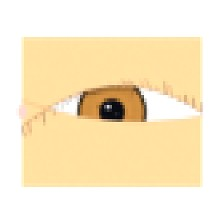pterygium_lesion: (22, 91, 75, 133)
